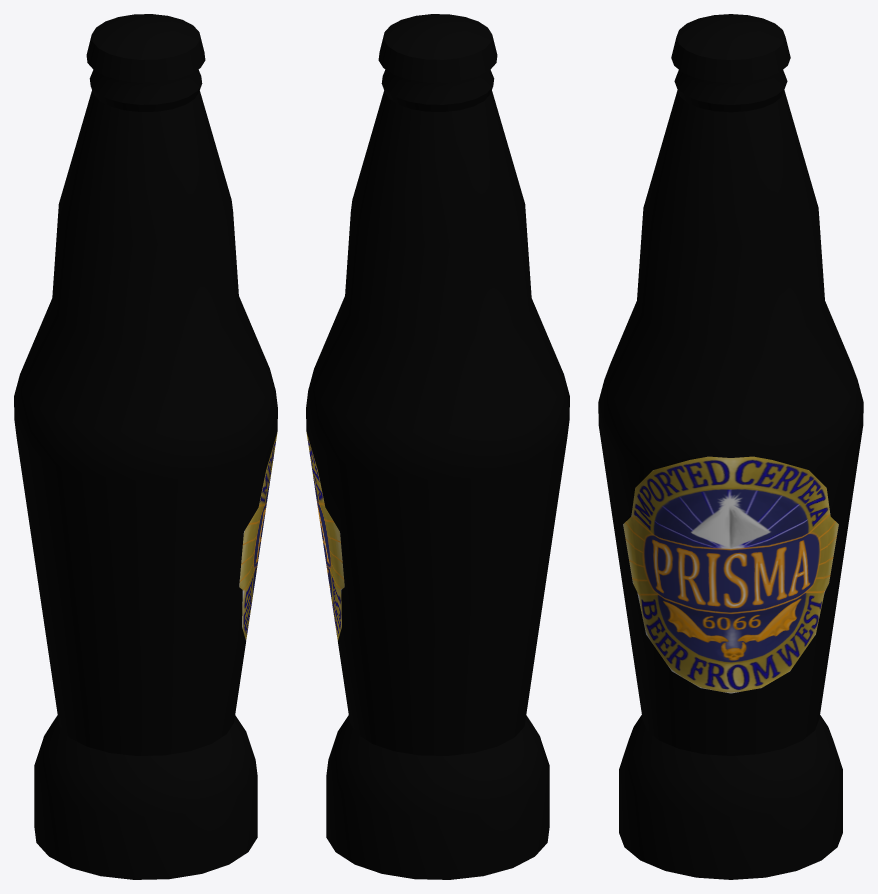
Rendered from bottiglia.fbx.
3 renders of one model, left to right at view 1: azimuth 30°, elevation 25°; view 2: azimuth 150°, elevation 25°; view 3: azimuth 270°, elevation 25°, orthographic.
Visible parts, largest first — view 1: bottiglia; view 2: bottiglia; view 3: bottiglia.
Part boxes in pixels (box(x1,y1,x2,y2)): bottiglia: box(14, 14, 277, 879); bottiglia: box(306, 14, 569, 879); bottiglia: box(598, 14, 863, 879).
Bounding box in the file's own units: 0.2456 × 0.8256 × 0.2456.
Materials: 2 (1 with a texture image).
